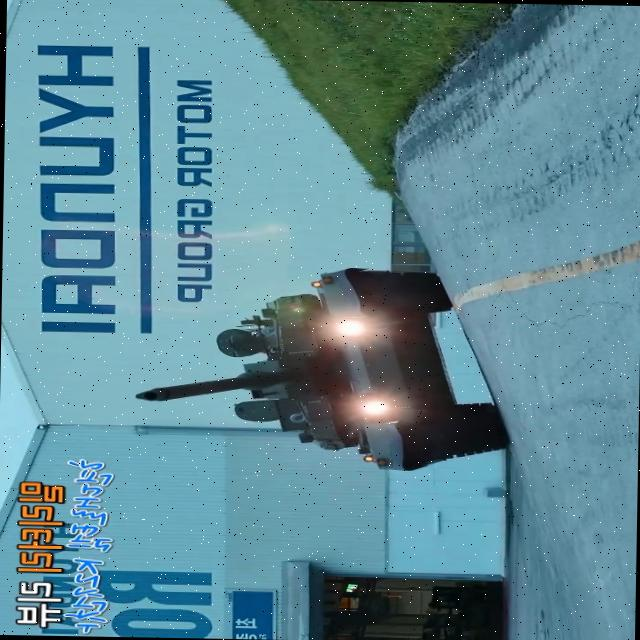korea tank: (132, 264, 510, 472)
